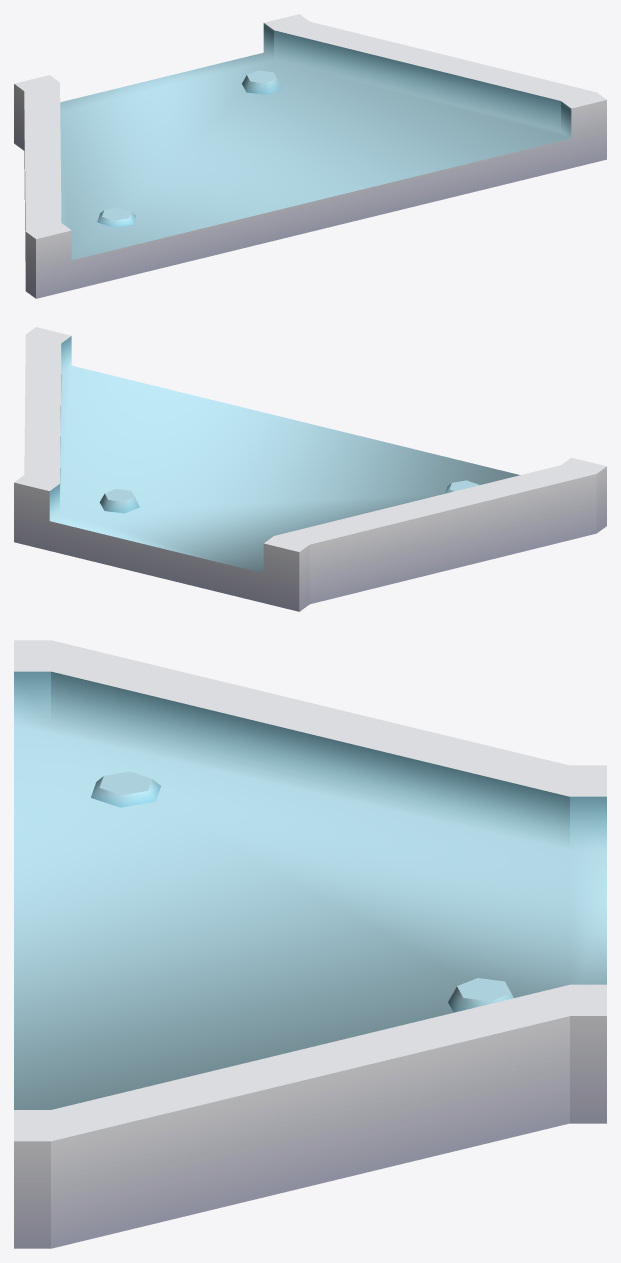
Rendered from kenney-tower-defense-snow-tile-wide-transition.glb.
3 views of the same model, one above another, from view 1: azimuth 30°, elevation 25°; view 2: azimuth 150°, elevation 25°; view 3: azimuth 270°, elevation 25° (orthographic). The views are drawn at different scales.
Parts seen in each view (by area): view 1: snow-tile-wide-transition; view 2: snow-tile-wide-transition; view 3: snow-tile-wide-transition.
Boxes of the visible parts, x1,y1,x2,y2 form: snow-tile-wide-transition: (14,14,606,298); snow-tile-wide-transition: (14,327,606,611); snow-tile-wide-transition: (14,640,606,1248).
Bounding box in the file's own units: 2 × 0.2 × 1.
1 material, 1 textured.
